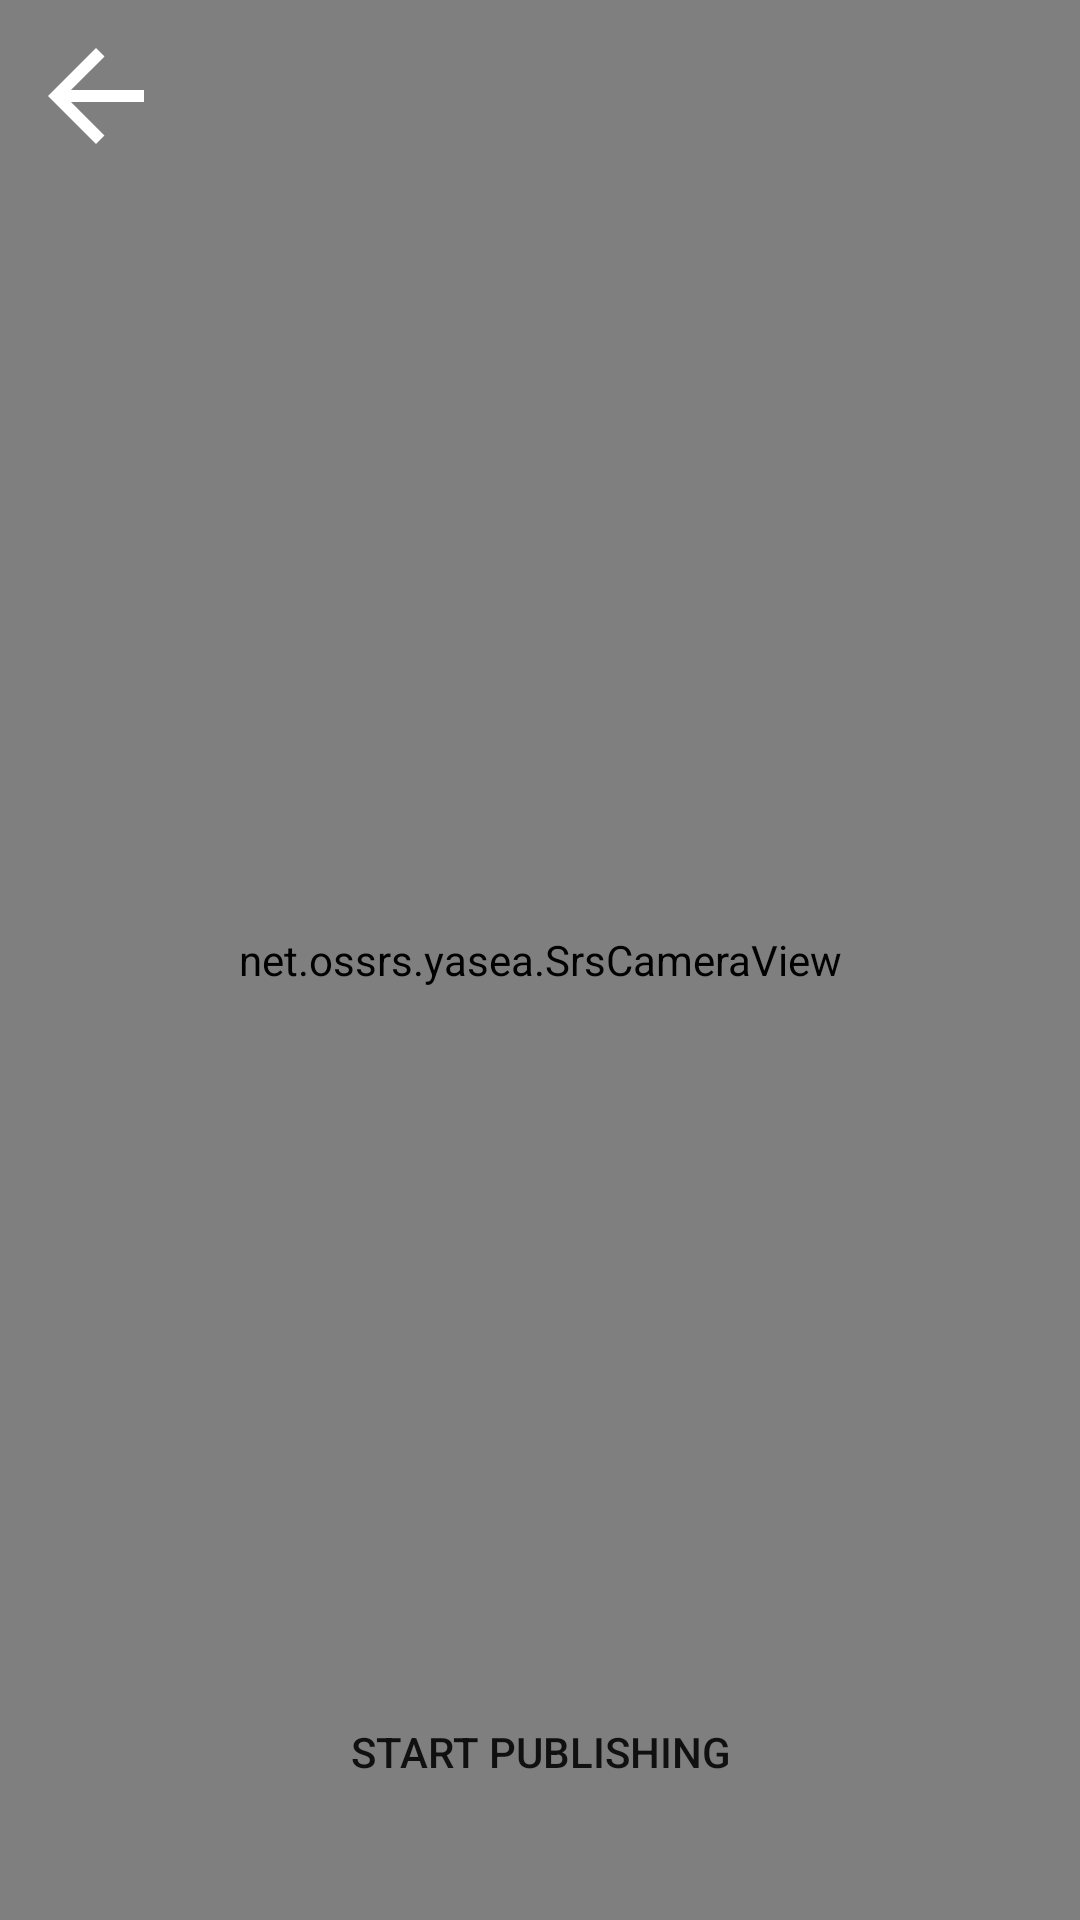

Where icons sit on this 1080×1920 app screen, as (x1, y1, x2, y2):
back: (48, 48, 144, 144)
